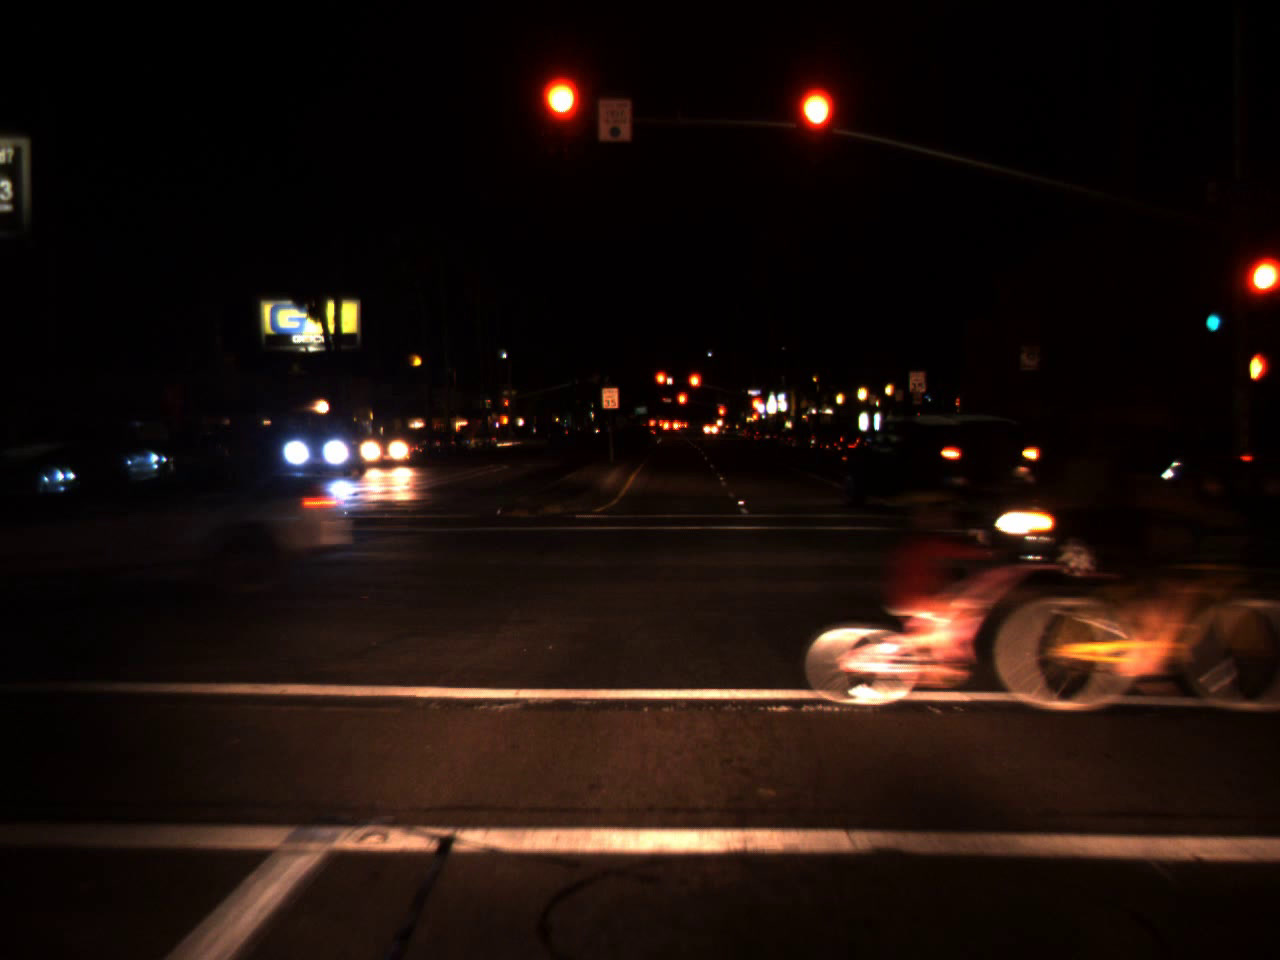stop: (542, 78, 581, 156), (798, 89, 834, 167), (1248, 262, 1279, 310), (686, 371, 702, 403), (653, 370, 668, 399), (675, 391, 688, 418), (749, 395, 762, 422), (717, 404, 726, 422), (503, 398, 509, 414)
